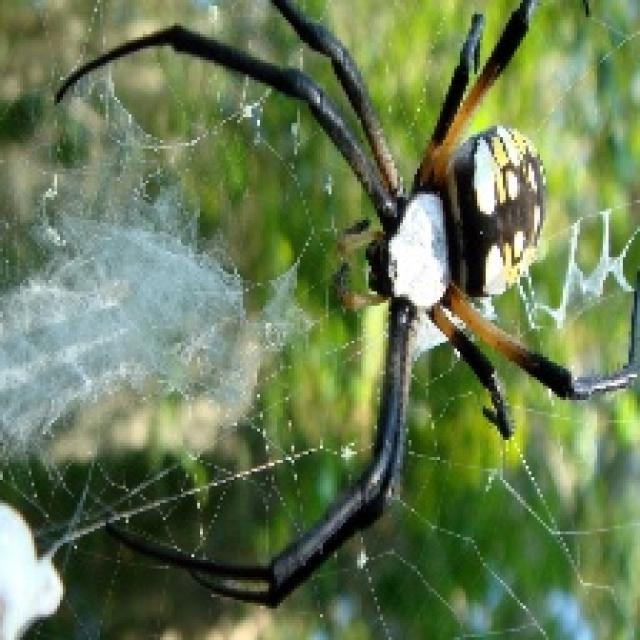Non venomous spider: (23, 20, 614, 616)
